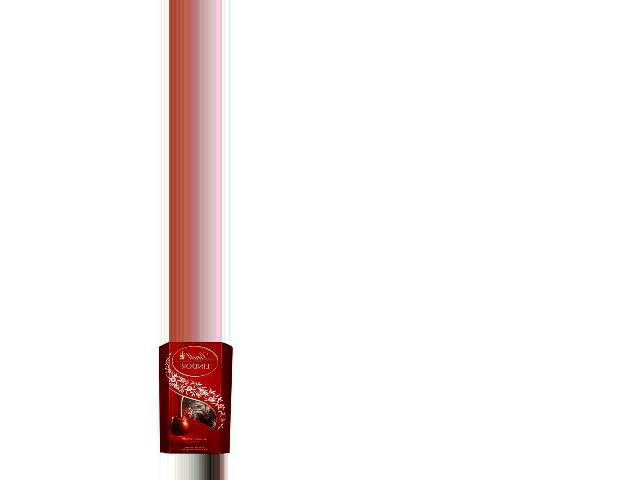chocolate: (153, 342, 234, 454)
